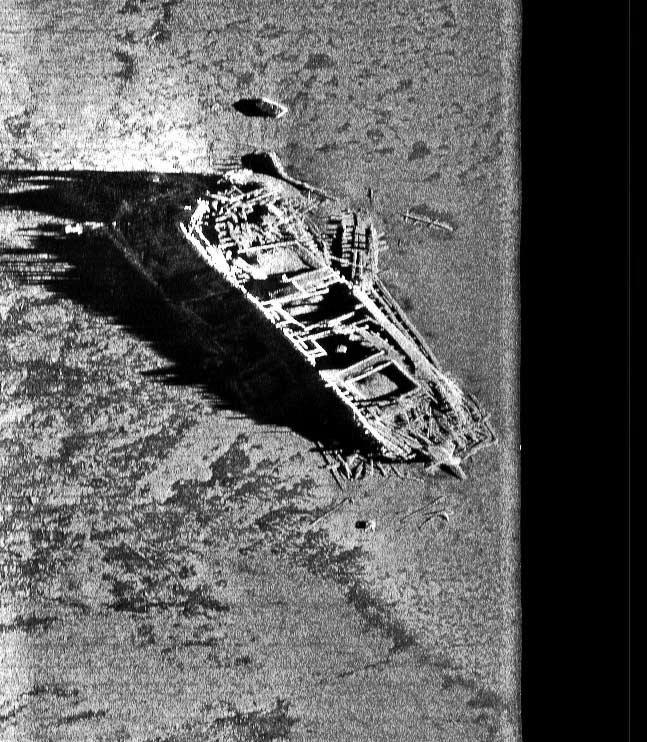ship: (99, 146, 496, 492)
